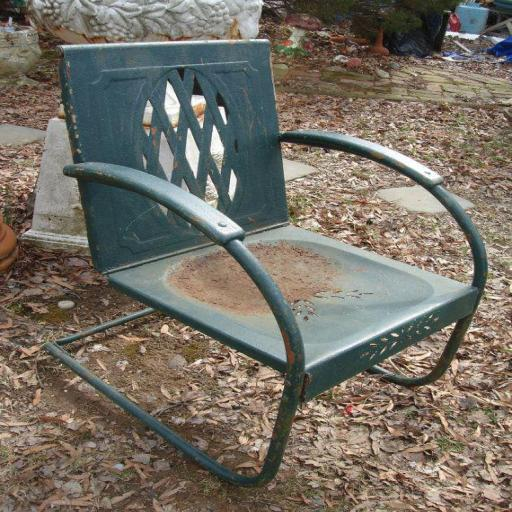segmentation: (169, 251, 269, 315), (246, 240, 341, 302)
